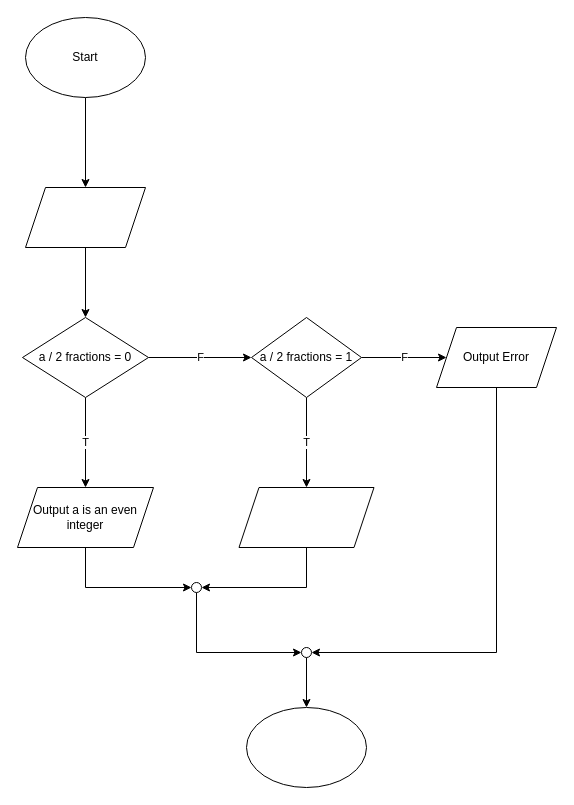
Some shapes in this 574 by 805 pixel diagram are drawn without their labels. Here are the shapes that lost their labels. From the top down, the centre of each, then its label:
[85,217]: Input a
[306,517]: Output a is an odd integer
[306,747]: End
